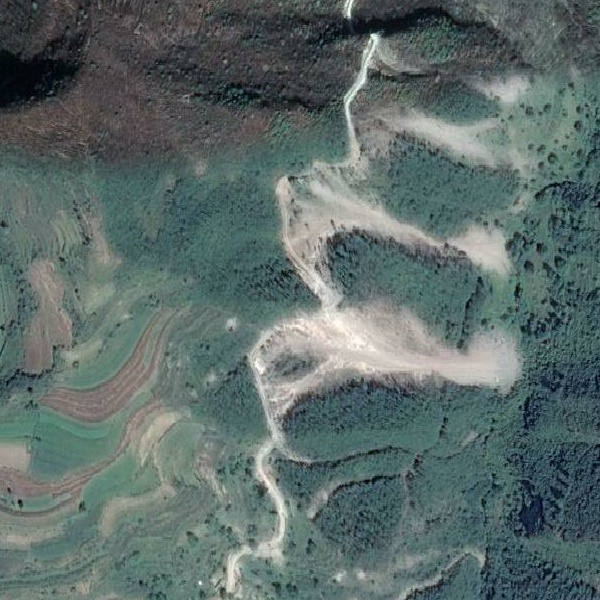slope: (256, 290, 524, 423), (284, 165, 513, 295), (357, 90, 509, 173), (370, 38, 442, 75)
